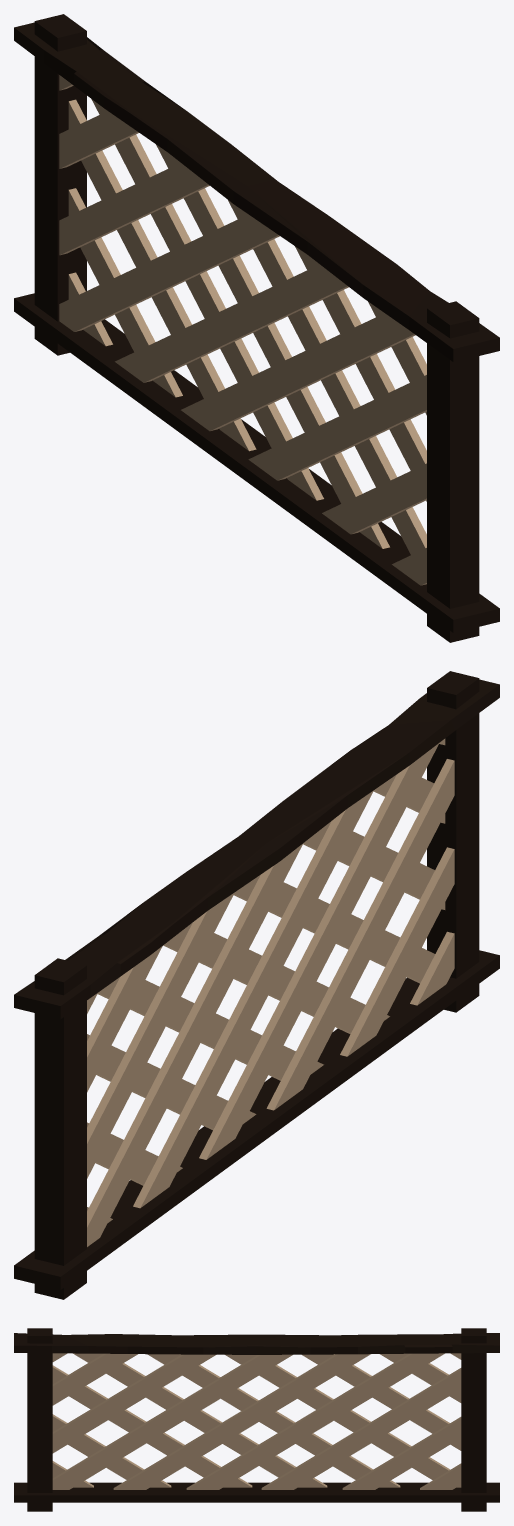
File: Fence_New_1_Gray_Long.fbx
3 views of the same model, one above another, from view 1: azimuth 30°, elevation 25°; view 2: azimuth 150°, elevation 25°; view 3: azimuth 270°, elevation 25° (orthographic). The views are drawn at different scales.
Parts seen in each view (by area): view 1: Cube.050, Cube.045, Cube.043, Cube.041, Cube.042; view 2: Cube.050, Cube.045, Cube.043, Cube.042, Cube.041; view 3: Cube.050, Cube.045, Cube.043, Cube.041, Cube.042.
Part boxes in pixels (bbox=[...]): Cube.050: bbox=[59, 75, 426, 585]; Cube.045: bbox=[14, 22, 499, 362]; Cube.043: bbox=[14, 293, 499, 632]; Cube.041: bbox=[427, 301, 479, 642]; Cube.042: bbox=[34, 14, 86, 355]; Cube.050: bbox=[87, 738, 454, 1246]; Cube.045: bbox=[14, 679, 499, 1019]; Cube.043: bbox=[14, 950, 499, 1289]; Cube.042: bbox=[34, 958, 86, 1299]; Cube.041: bbox=[427, 671, 479, 1012]; Cube.050: bbox=[52, 1353, 461, 1489]; Cube.045: bbox=[14, 1333, 499, 1354]; Cube.043: bbox=[14, 1482, 499, 1502]; Cube.041: bbox=[27, 1328, 52, 1511]; Cube.042: bbox=[461, 1328, 486, 1511].
Bounding box in the file's own units: 9.69 × 63.09 × 158.
